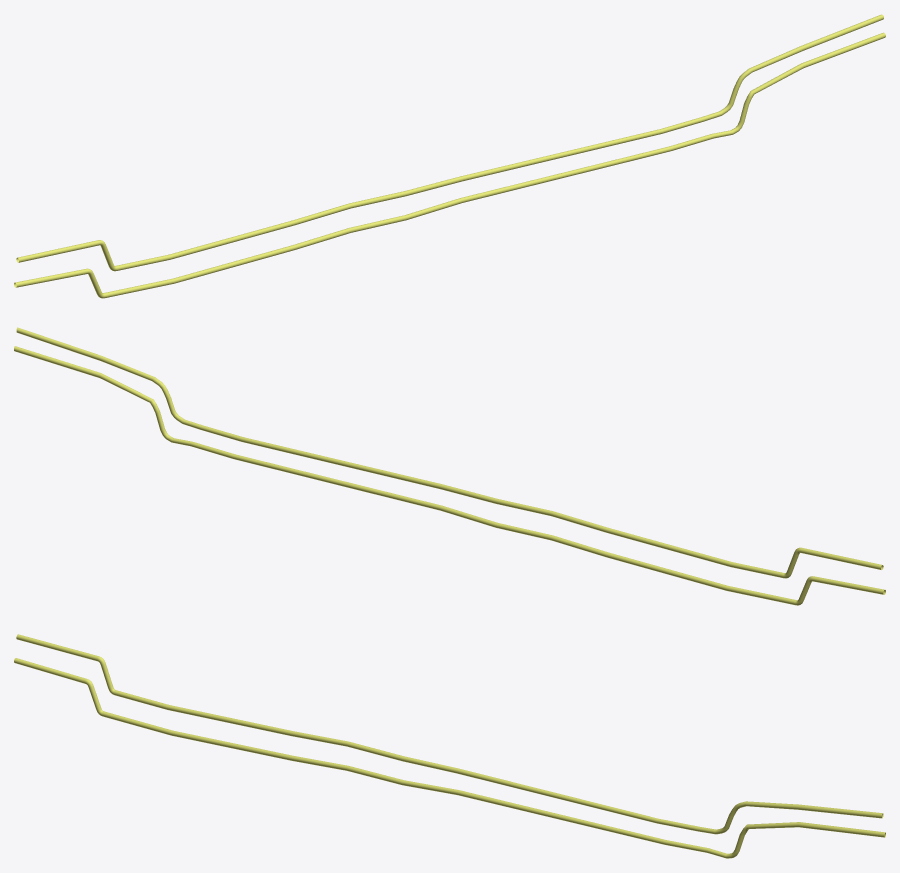
The model's file is Generator_Pipe_Horizontal_Small_3.fbx.
3 renders of one model, top to bottom at view 1: azimuth 30°, elevation 25°; view 2: azimuth 150°, elevation 25°; view 3: azimuth 330°, elevation 25°, orthographic.
Visible parts, largest first — view 1: Pipe_Horizontal_Small_3; view 2: Pipe_Horizontal_Small_3; view 3: Pipe_Horizontal_Small_3.
Part boxes in pixels (<box>): Pipe_Horizontal_Small_3: <box>14,14,885,298</box>; Pipe_Horizontal_Small_3: <box>14,327,885,605</box>; Pipe_Horizontal_Small_3: <box>14,634,885,858</box>.
Size of the model in its own units: 1439 by 147 by 17.16.
